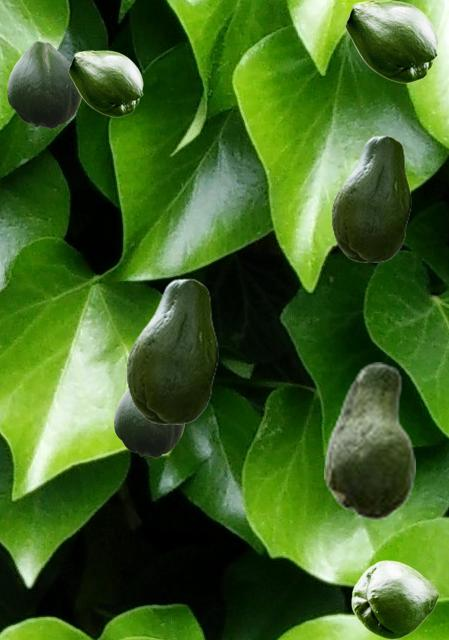sayote: (324, 362, 414, 520), (126, 278, 217, 423), (331, 135, 410, 261), (345, 0, 437, 82), (351, 560, 438, 638), (7, 41, 81, 128), (68, 50, 142, 116), (114, 389, 183, 457)
